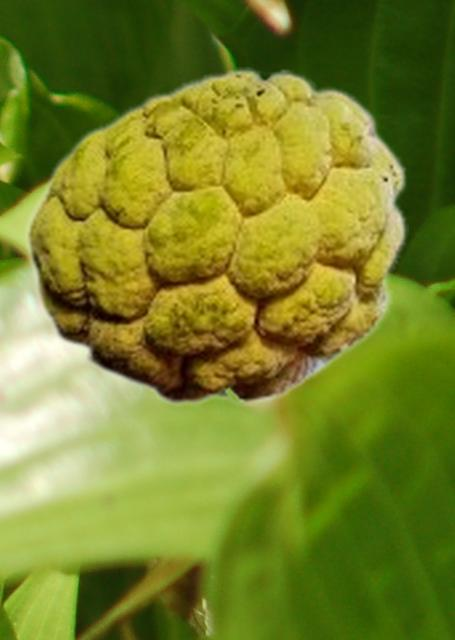atis: (23, 67, 407, 405)
